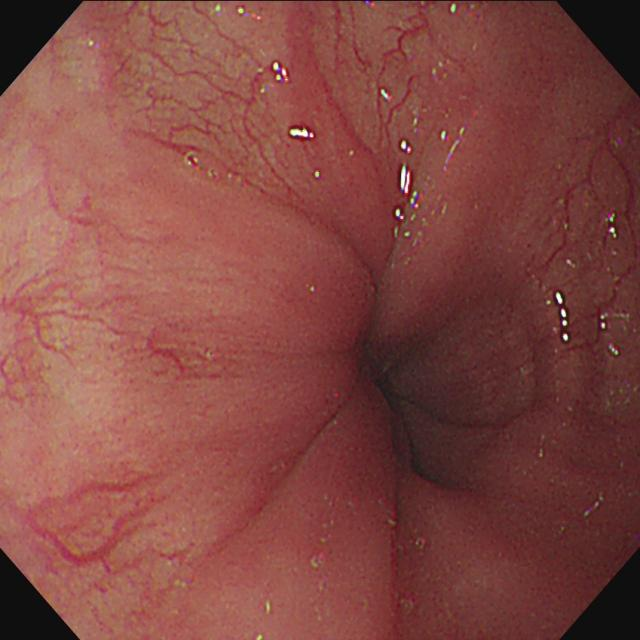E: (327, 326, 456, 480)
U: (557, 292, 571, 344), (290, 127, 315, 142), (400, 166, 412, 196)
